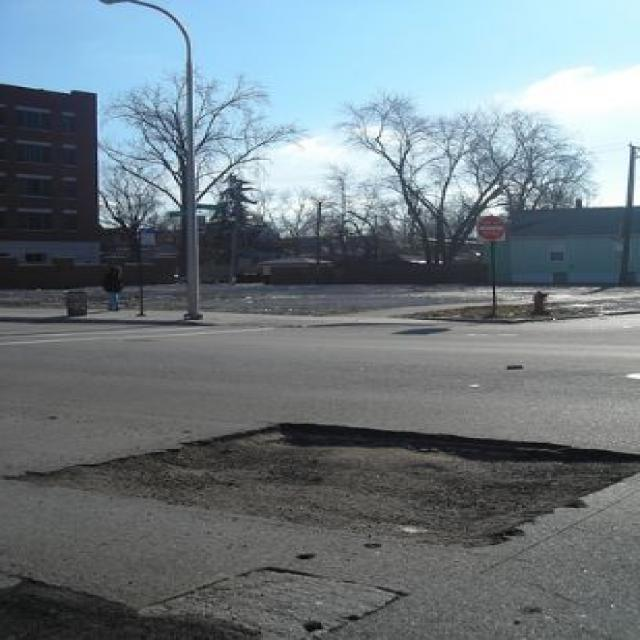Pothole: (25, 412, 640, 547)
